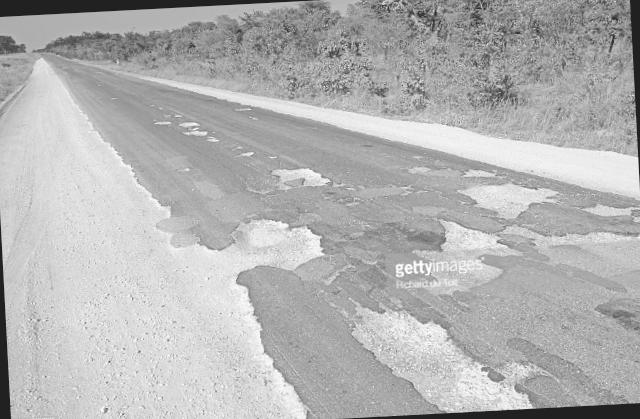Pothole: (337, 196, 580, 317), (204, 203, 350, 299), (436, 167, 574, 227), (249, 140, 337, 204)
